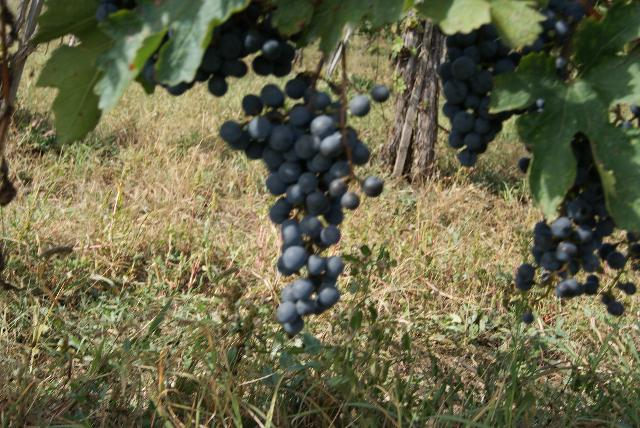grapes: (220, 72, 370, 336)
